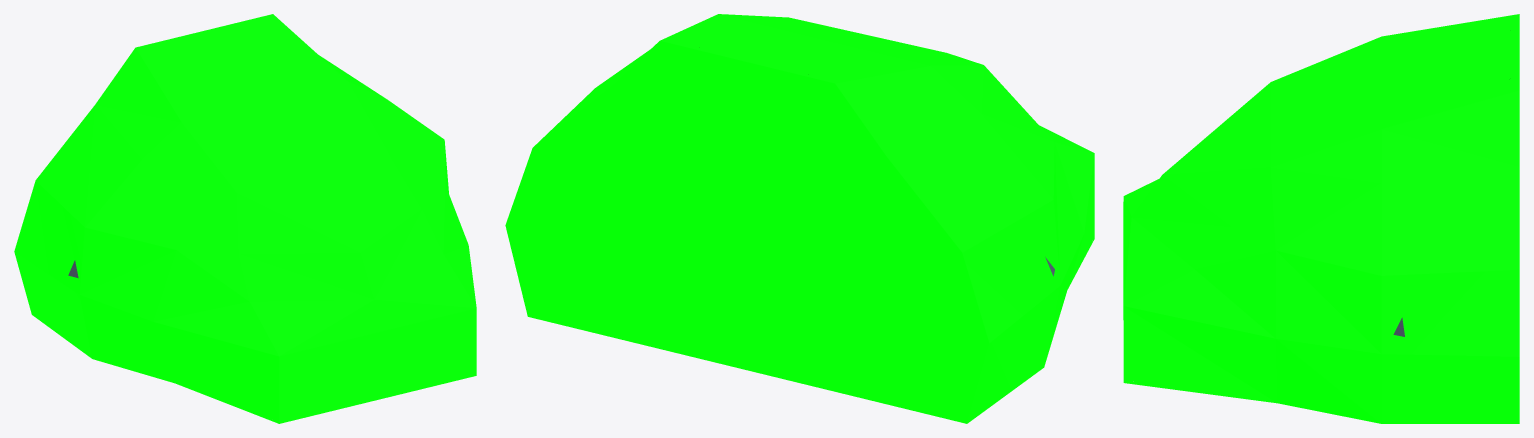
Rendered from A330_INTERIOR_LOD04.gltf.
The picture shows the model from 3 angles, left to right: view 1: azimuth 30°, elevation 25°; view 2: azimuth 150°, elevation 25°; view 3: azimuth 270°, elevation 25°; orthographic projection. The views are drawn at different scales.
Parts seen in each view (by area): view 1: Occluder; view 2: Occluder; view 3: Occluder.
Part boxes in pixels (<box>): Occluder: <box>14,14,476,423</box>; Occluder: <box>505,14,1094,423</box>; Occluder: <box>1123,14,1519,423</box>.
Bounding box in the file's own units: 3.72 × 2.27 × 2.95.
